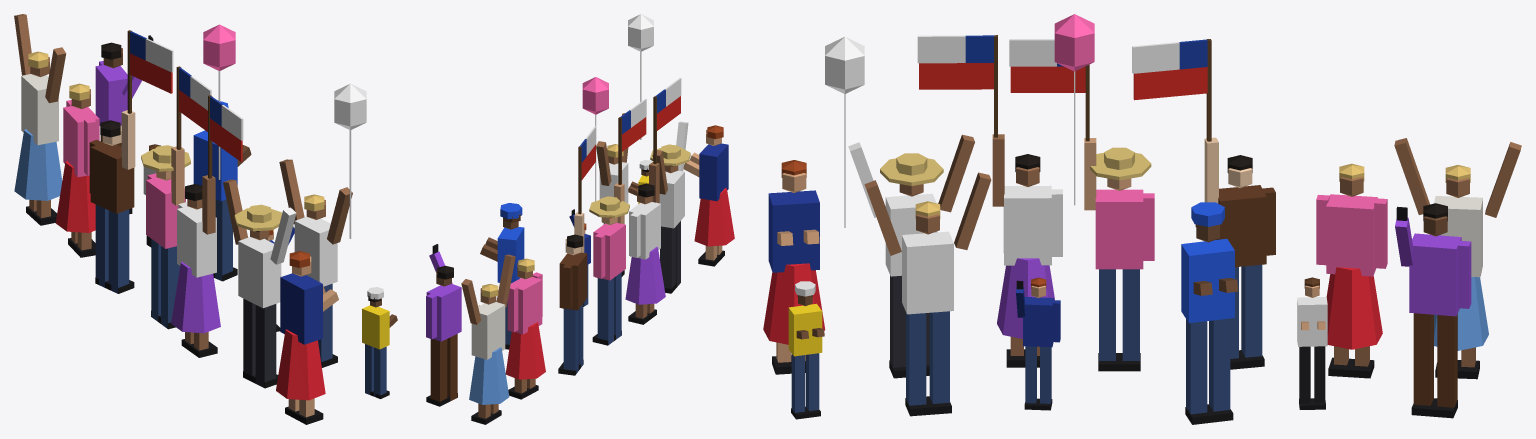
Rendered from publico_fiesta_4.obj.
3 renders of one model, left to right at view 1: azimuth 30°, elevation 25°; view 2: azimuth 150°, elevation 25°; view 3: azimuth 270°, elevation 25°, orthographic. The views are drawn at different scales.
Parts seen in each view (by area): view 1: publico_fiesta_4; view 2: publico_fiesta_4; view 3: publico_fiesta_4.
Boxes of the visible parts, <box> form: publico_fiesta_4: <box>14,14,397,424</box>; publico_fiesta_4: <box>426,14,734,424</box>; publico_fiesta_4: <box>763,14,1521,424</box>.
Size of the model in its own units: 1.56 by 3.09 by 5.72.
